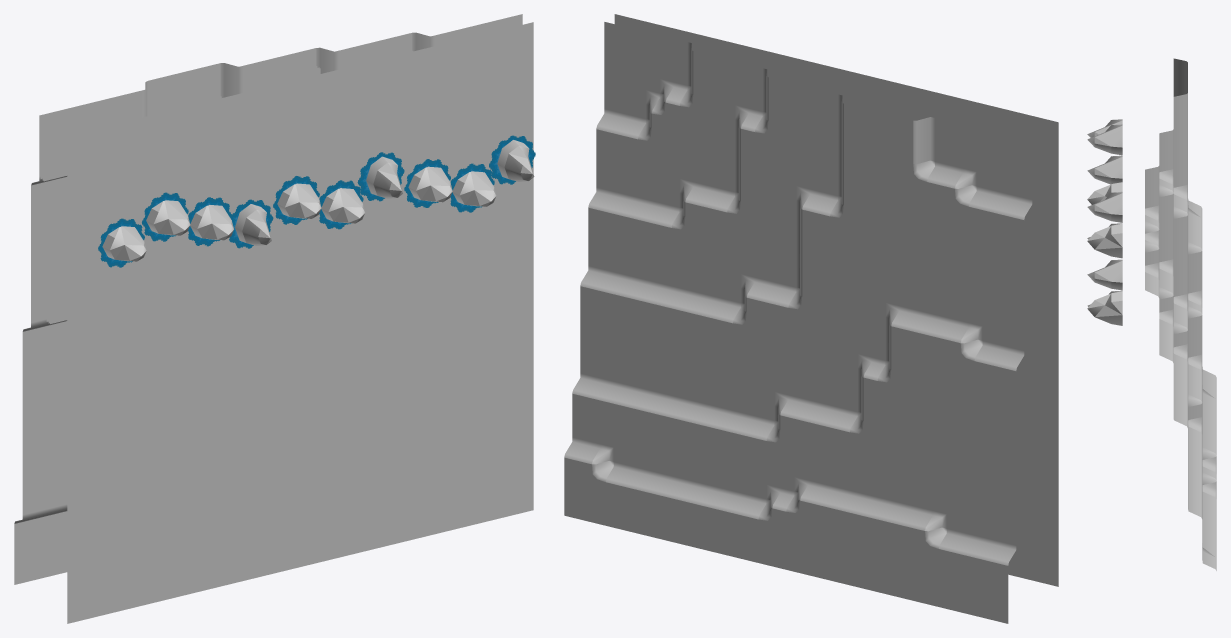
The model's file is Barrier-Reef_04_15.obj.
3 views of the same model, side by side, from view 1: azimuth 30°, elevation 25°; view 2: azimuth 150°, elevation 25°; view 3: azimuth 270°, elevation 25° (orthographic). The views are drawn at different scales.
Visible parts, largest first — view 1: map; view 2: map; view 3: map.
Part boxes in pixels (<box>): map: <box>14,14,535,623</box>; map: <box>564,14,1058,623</box>; map: <box>1087,58,1216,570</box>.
Bounding box in the file's own units: 32 × 32 × 9.04.
